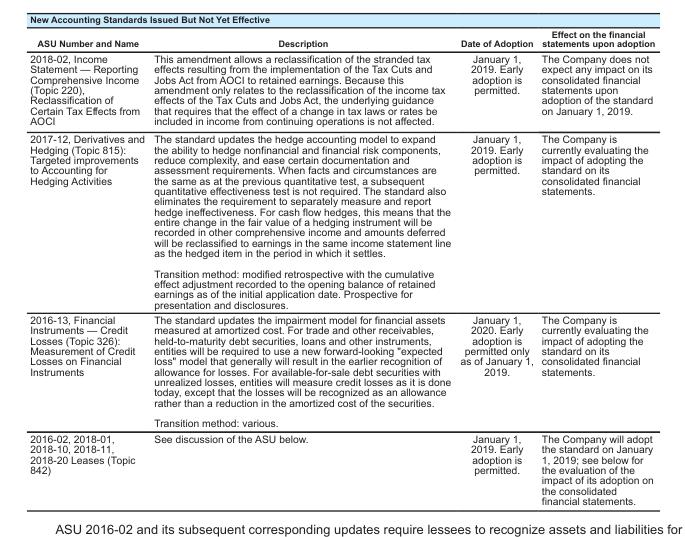table: (29, 28, 654, 506)
table column: (148, 28, 454, 506), (29, 28, 148, 506), (536, 28, 654, 506), (454, 28, 536, 506)
table column header: (29, 28, 654, 50)
table row: (29, 129, 654, 311), (29, 311, 654, 430), (29, 50, 654, 129), (29, 430, 654, 506), (29, 28, 654, 50)
